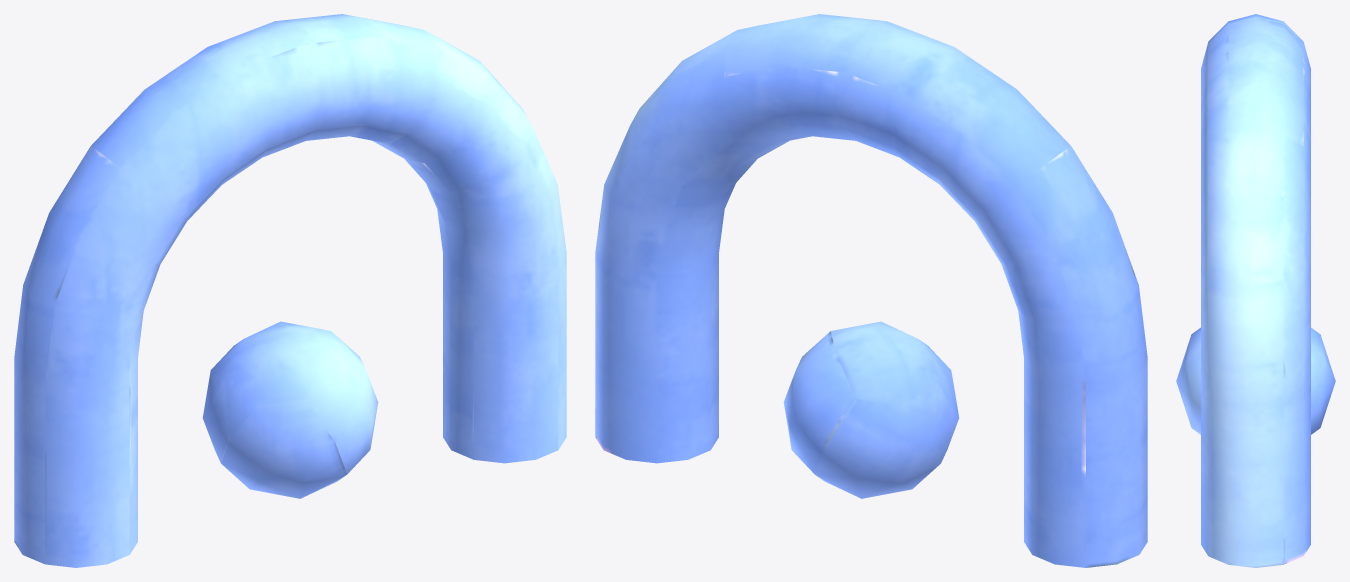
The model's file is LamiaFloorLight.glb.
The picture shows the model from 3 angles, left to right: view 1: azimuth 30°, elevation 25°; view 2: azimuth 150°, elevation 25°; view 3: azimuth 270°, elevation 25°; orthographic projection. The views are drawn at different scales.
Parts seen in each view (by area): view 1: Torus.001, Icosphere; view 2: Torus.001, Icosphere; view 3: Torus.001, Icosphere.
Part boxes in pixels (x1,y1,x2,y2): Torus.001: (14,14,566,567); Icosphere: (202,321,378,498); Torus.001: (595,14,1147,567); Icosphere: (783,321,959,498); Torus.001: (1201,14,1310,567); Icosphere: (1176,327,1335,434).
Size of what is drawn, in the model's own units: 0.7161 by 0.5959 by 0.2078.
1 material, 1 textured.
